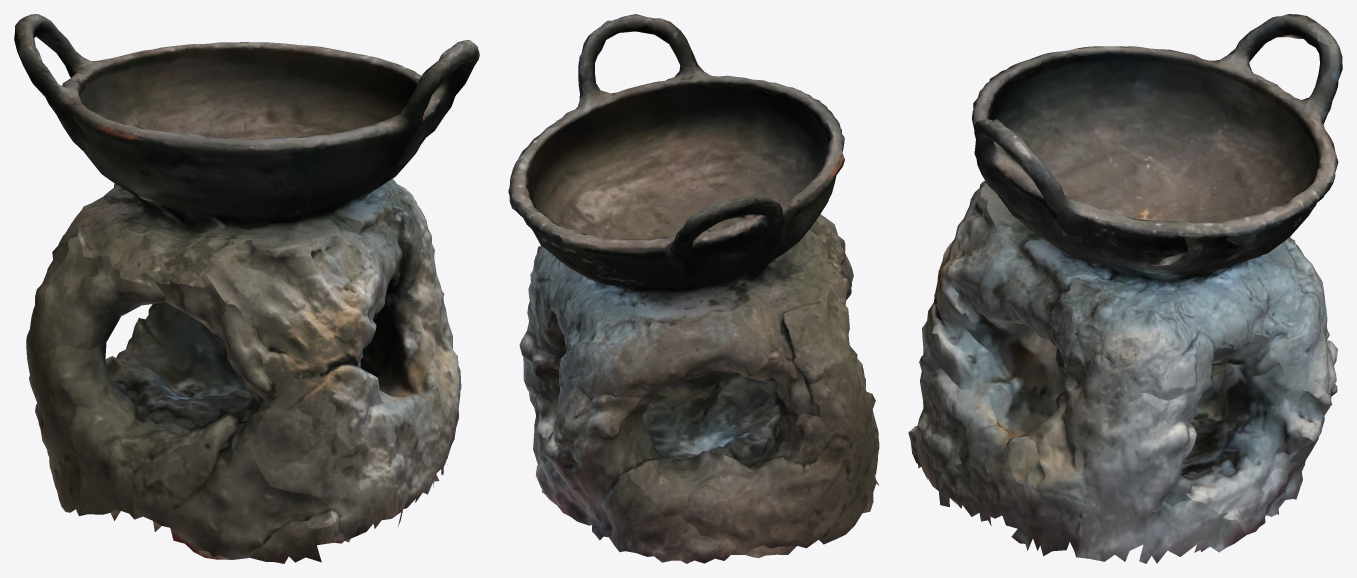
Rendered from RockStove.fbx.
The picture shows the model from 3 angles, left to right: view 1: azimuth 30°, elevation 25°; view 2: azimuth 150°, elevation 25°; view 3: azimuth 270°, elevation 25°; orthographic projection. The views are drawn at different scales.
Parts seen in each view (by area): view 1: Mesh_0; view 2: Mesh_0; view 3: Mesh_0.
Boxes of the visible parts, bbox=[...] form: Mesh_0: bbox=[14, 14, 479, 563]; Mesh_0: bbox=[508, 14, 879, 563]; Mesh_0: bbox=[908, 14, 1342, 563].
Size of the model in its own units: 32.52 by 36.75 by 32.89.
1 material, 1 textured.
